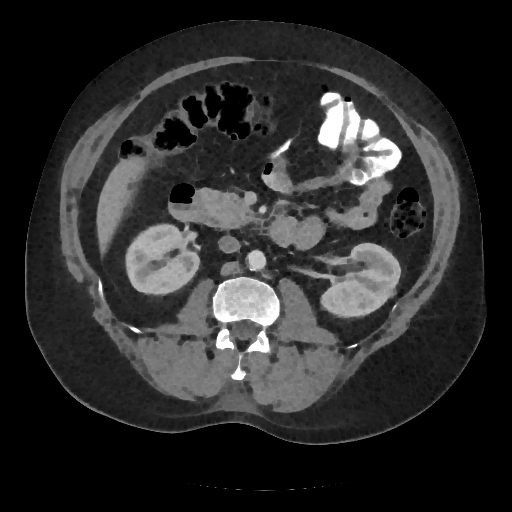Lesion: (385, 287, 398, 298)
